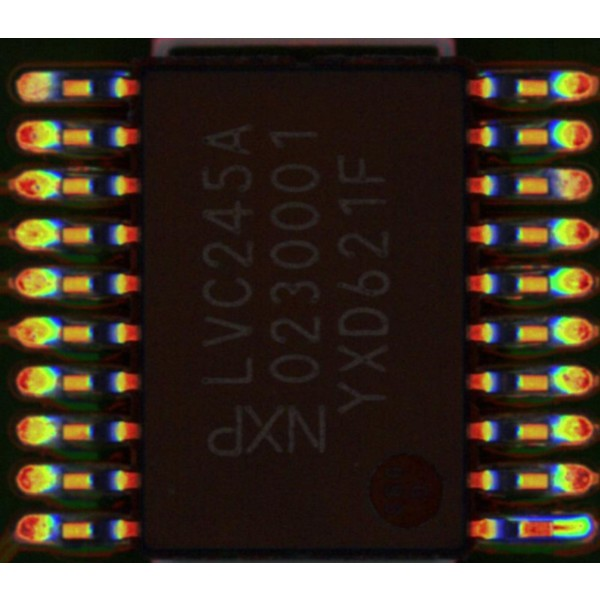Bad_podu: (536, 523, 575, 536)
Bad_qiaojiao: (507, 514, 556, 521)
